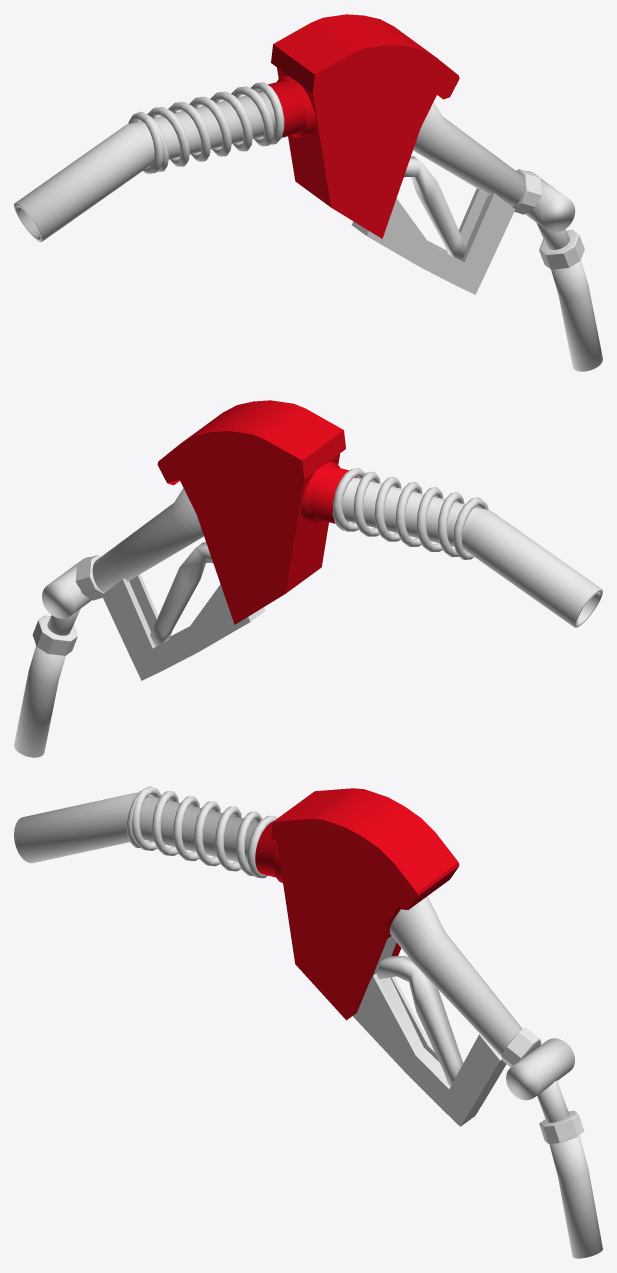
Rendered from Gas Pump.fbx.
The picture shows the model from 3 angles, top to bottom: view 1: azimuth 30°, elevation 25°; view 2: azimuth 150°, elevation 25°; view 3: azimuth 330°, elevation 25°; orthographic projection.
Parts seen in each view (by area): view 1: Cube.004, Cylinder, Cube.001, Circle, Cylinder.001, Cylinder.002, Cube, Cylinder.003, Cube.003, Cube.002; view 2: Cube.004, Cylinder, Cube.001, Circle, Cylinder.001, Cylinder.002, Cube, Cylinder.003, Cube.003, Cube.002; view 3: Cube.004, Cylinder, Cube.001, Cylinder.001, Circle, Cylinder.002, Cube, Cylinder.003, Cube.003, Cube.002, Cylinder.004.
Boxes of the visible parts, x1=… form: Cube.004: x1=271, y1=14, x2=459, y2=238; Cylinder: x1=14, y1=76, x2=315, y2=242; Cube.001: x1=352, y1=188, x2=515, y2=294; Circle: x1=128, y1=82, x2=284, y2=173; Cylinder.001: x1=413, y1=102, x2=524, y2=206; Cylinder.002: x1=551, y1=260, x2=602, y2=371; Cube: x1=403, y1=156, x2=466, y2=260; Cylinder.003: x1=525, y1=171, x2=575, y2=232; Cube.003: x1=539, y1=229, x2=584, y2=269; Cube.002: x1=512, y1=169, x2=541, y2=214; Cube.004: x1=157, y1=400, x2=345, y2=624; Cylinder: x1=301, y1=462, x2=602, y2=627; Cube.001: x1=102, y1=574, x2=265, y2=680; Circle: x1=332, y1=468, x2=488, y2=559; Cylinder.001: x1=92, y1=488, x2=203, y2=592; Cylinder.002: x1=14, y1=646, x2=65, y2=757; Cube: x1=150, y1=542, x2=213, y2=646; Cylinder.003: x1=42, y1=557, x2=91, y2=618; Cube.003: x1=32, y1=615, x2=77, y2=655; Cube.002: x1=75, y1=555, x2=104, y2=600; Cube.004: x1=271, y1=788, x2=459, y2=1020; Cylinder: x1=14, y1=792, x2=282, y2=882; Cube.001: x1=353, y1=936, x2=506, y2=1126; Cylinder.001: x1=390, y1=896, x2=522, y2=1055; Circle: x1=127, y1=786, x2=277, y2=878; Cylinder.002: x1=549, y1=1135, x2=602, y2=1258; Cube: x1=376, y1=956, x2=463, y2=1086; Cylinder.003: x1=506, y1=1038, x2=574, y2=1100; Cube.003: x1=539, y1=1110, x2=584, y2=1144; Cube.002: x1=501, y1=1027, x2=541, y2=1066; Cylinder.004: x1=537, y1=1080, x2=569, y2=1122.
Bounding box in the file's own units: 5.07 × 3.28 × 0.6306.
